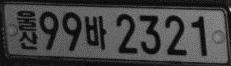1: (190, 15, 211, 56)
2: (164, 14, 187, 56), (115, 13, 137, 53)
3: (139, 14, 161, 55)
9: (38, 10, 59, 50), (61, 11, 82, 51)
바: (84, 15, 107, 49)
울산_V: (16, 9, 38, 49)
